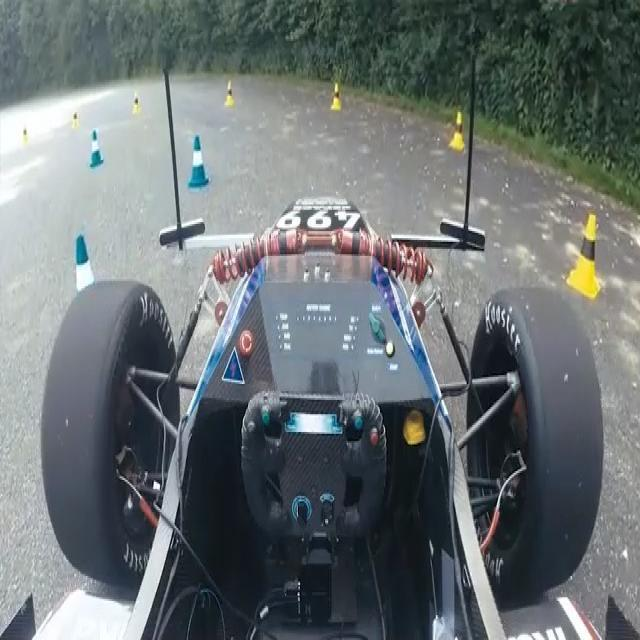blue_cone: (62, 221, 120, 377), (182, 131, 210, 189), (87, 130, 105, 170)
yellow_cone: (569, 213, 601, 299), (449, 107, 465, 151), (221, 75, 235, 109), (329, 80, 342, 114), (69, 108, 80, 134), (129, 92, 140, 118), (21, 128, 30, 149)
